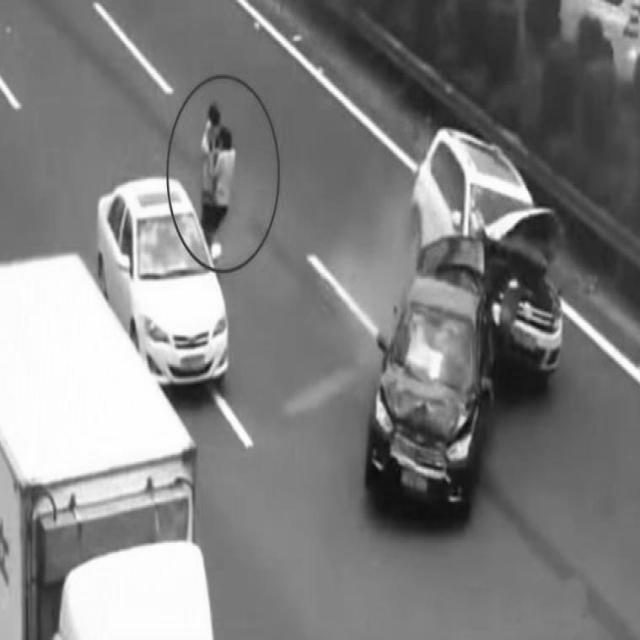accident: (361, 121, 569, 527)
vehicle: (95, 172, 231, 395)
